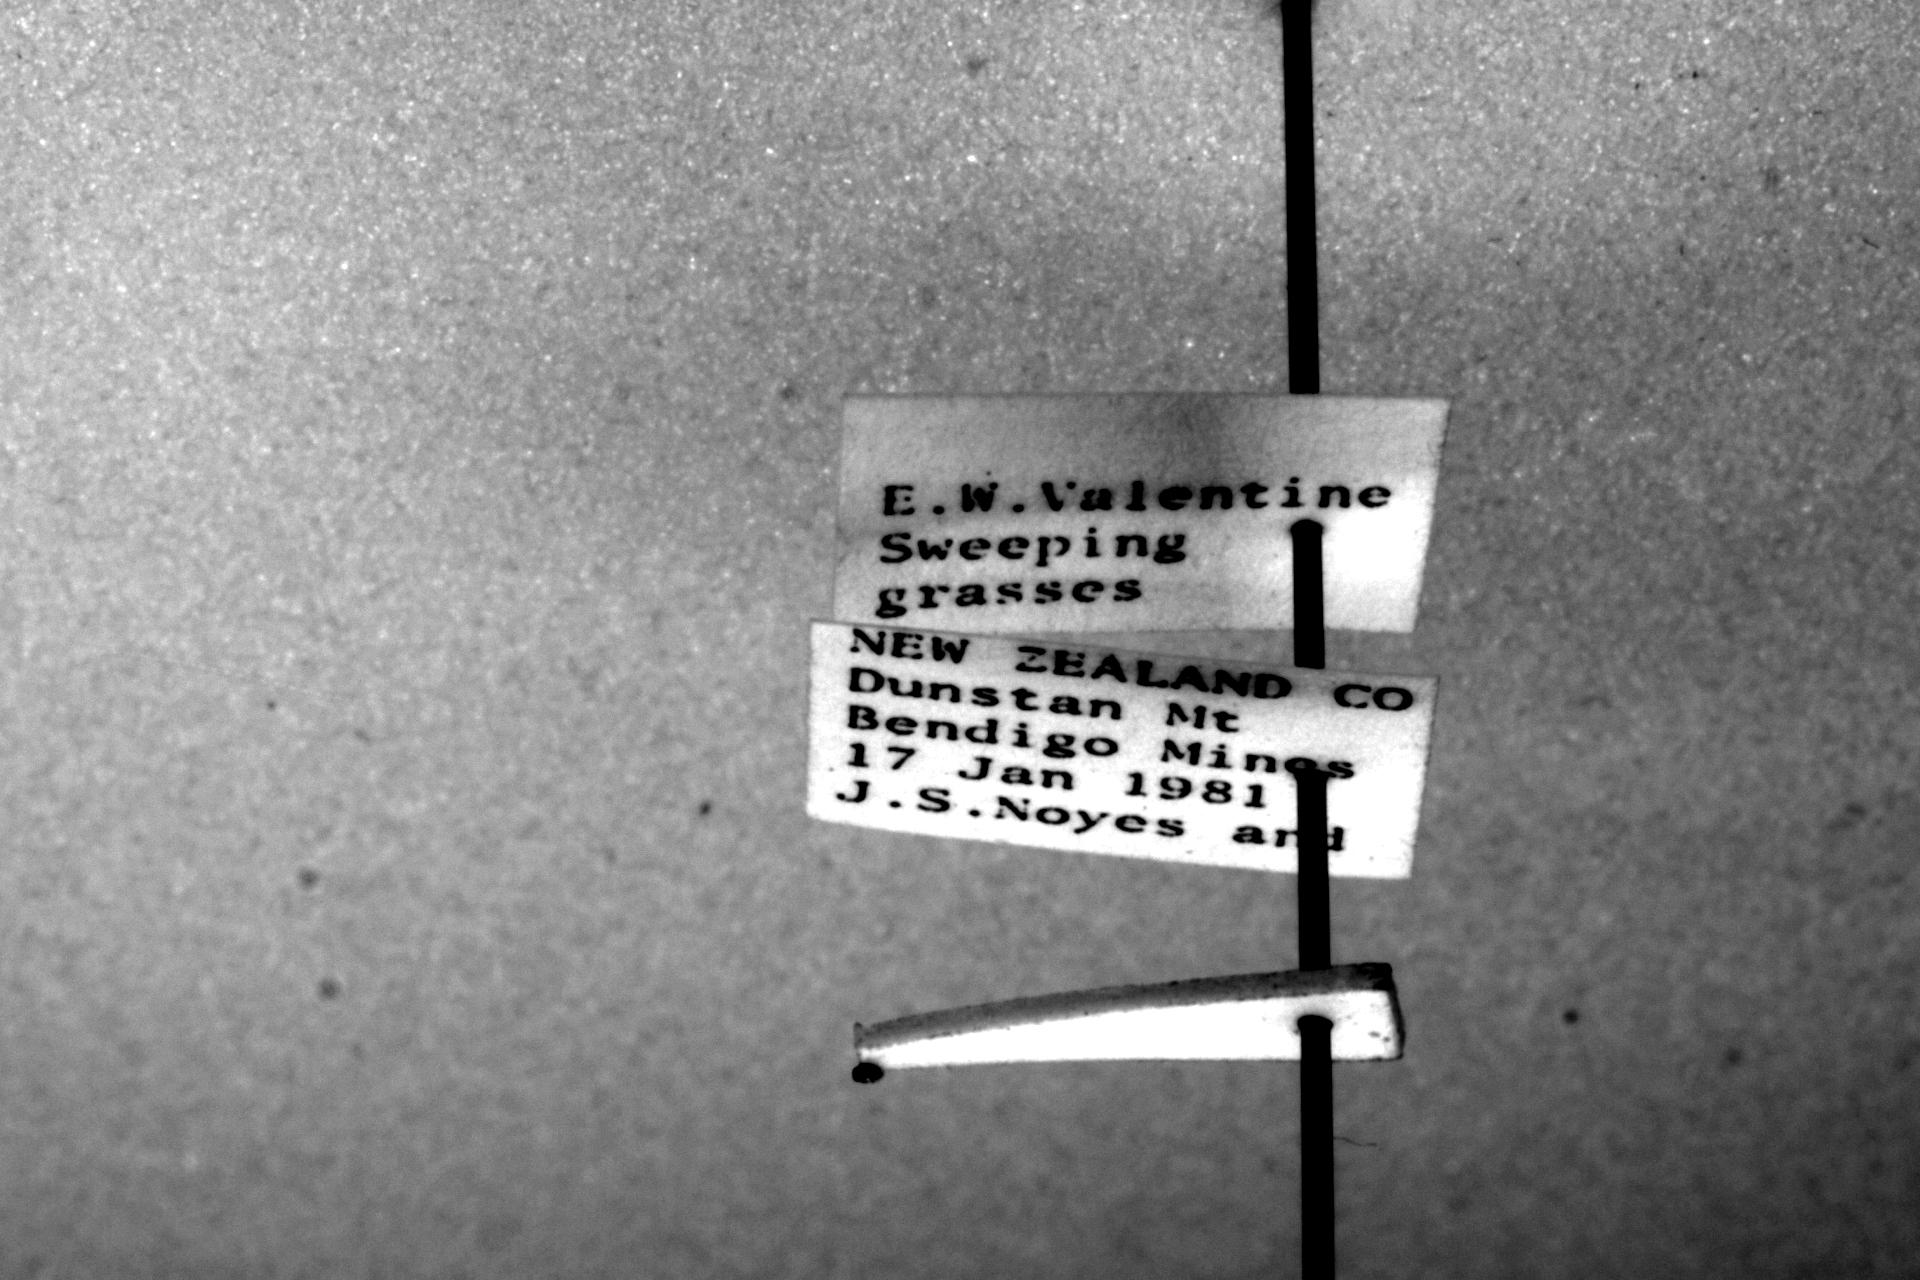typed_label: (806, 622, 1436, 878), (836, 394, 1448, 634)
